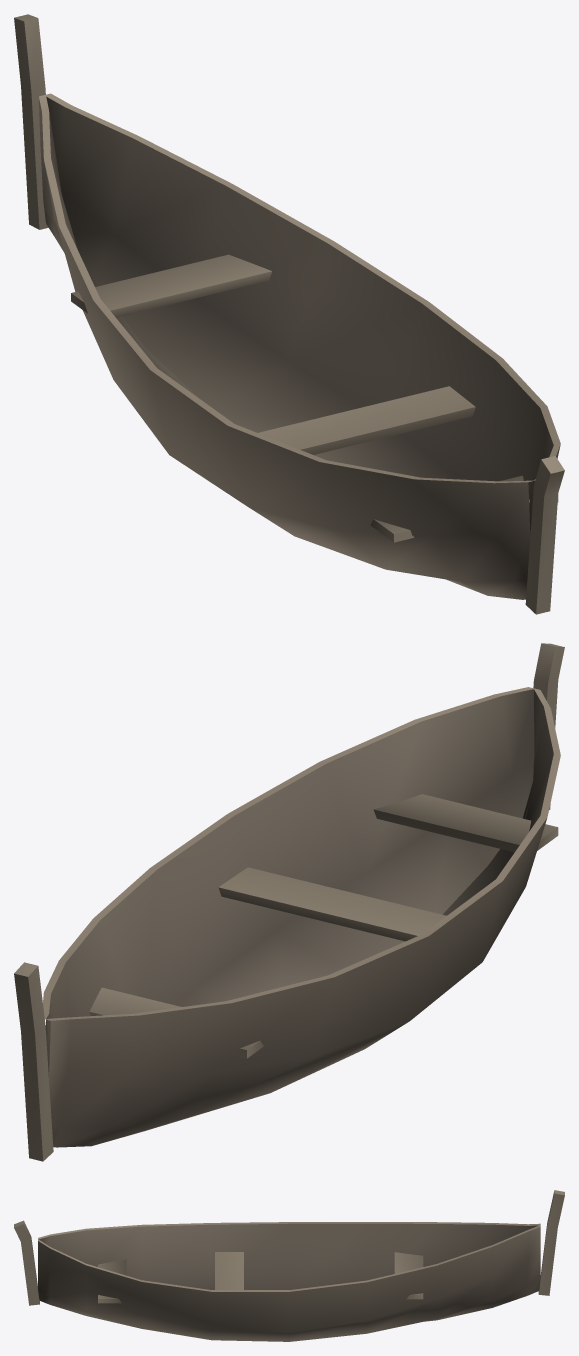
Rendered from moored-boat-lod.95d1f8b2.glb.
3 views of the same model, one above another, from view 1: azimuth 30°, elevation 25°; view 2: azimuth 150°, elevation 25°; view 3: azimuth 270°, elevation 25° (orthographic). The views are drawn at different scales.
Parts seen in each view (by area): view 1: moored_boat_lod; view 2: moored_boat_lod; view 3: moored_boat_lod.
Boxes of the visible parts, box(x1,y1,x2,y2) form: moored_boat_lod: box(14, 14, 564, 614); moored_boat_lod: box(14, 643, 564, 1161); moored_boat_lod: box(14, 1190, 564, 1341).
Bounding box in the file's own units: 1.38 × 1.27 × 4.61.
